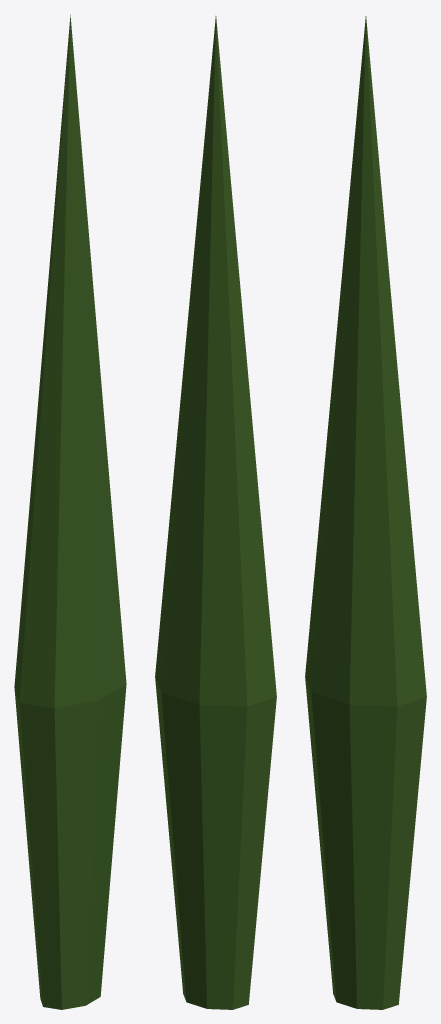
Rendered from Natures2g8-green.fbx.
3 renders of one model, left to right at view 1: azimuth 30°, elevation 25°; view 2: azimuth 150°, elevation 25°; view 3: azimuth 330°, elevation 25°, orthographic.
Parts seen in each view (by area): view 1: g8-green; view 2: g8-green; view 3: g8-green.
Part boxes in pixels (x1,y1,x2,y2): g8-green: [14, 14, 126, 1009]; g8-green: [155, 16, 276, 1009]; g8-green: [305, 16, 426, 1009].
Size of the model in its own units: 25.69 by 216 by 17.84.
